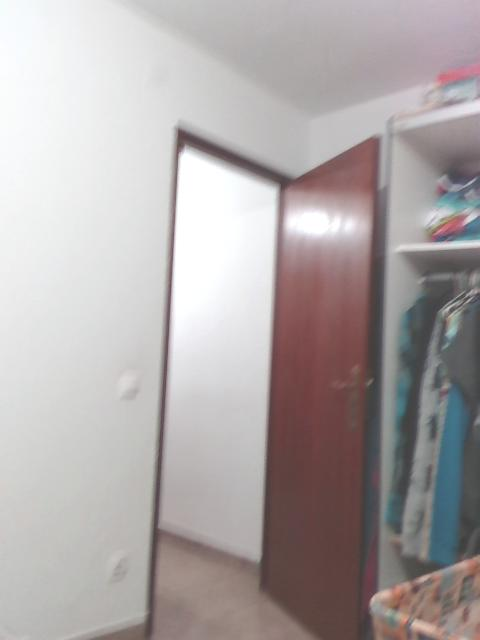open_door: (146, 120, 302, 639)
